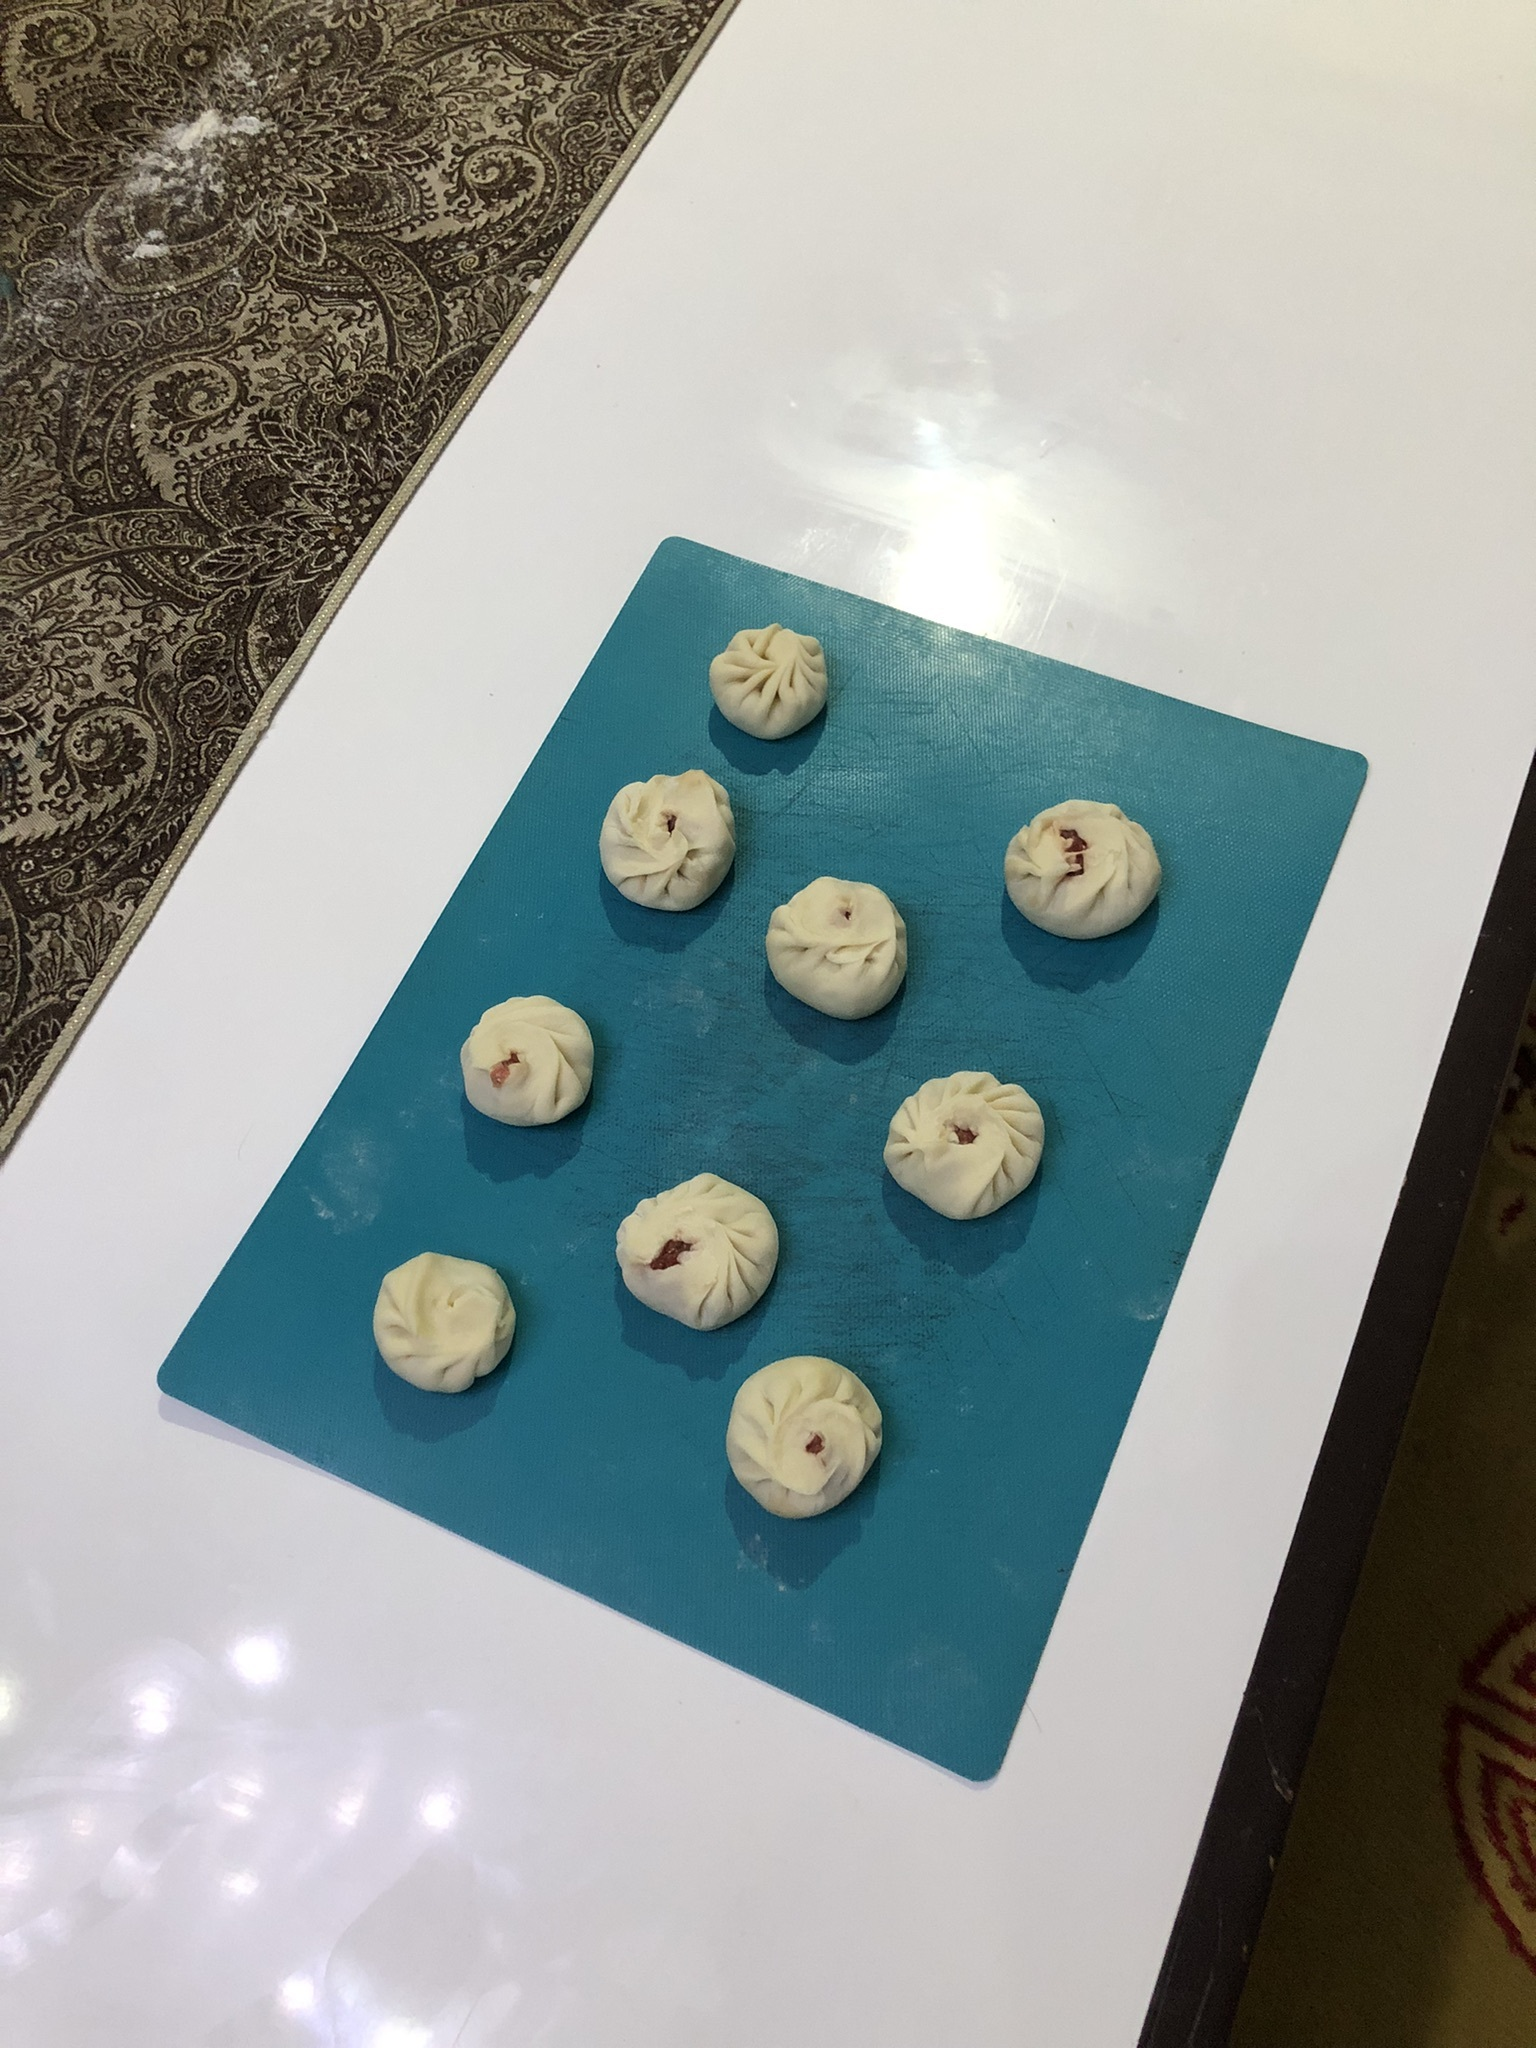buuz: (715, 1347, 895, 1532), (610, 1164, 787, 1337), (874, 1064, 1054, 1230), (994, 790, 1171, 953), (365, 1240, 529, 1406), (758, 871, 916, 1026), (595, 764, 744, 919), (453, 990, 603, 1135), (702, 619, 837, 750)
